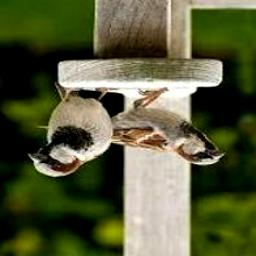Sparrow: (38, 88, 227, 166), (27, 88, 119, 178)
